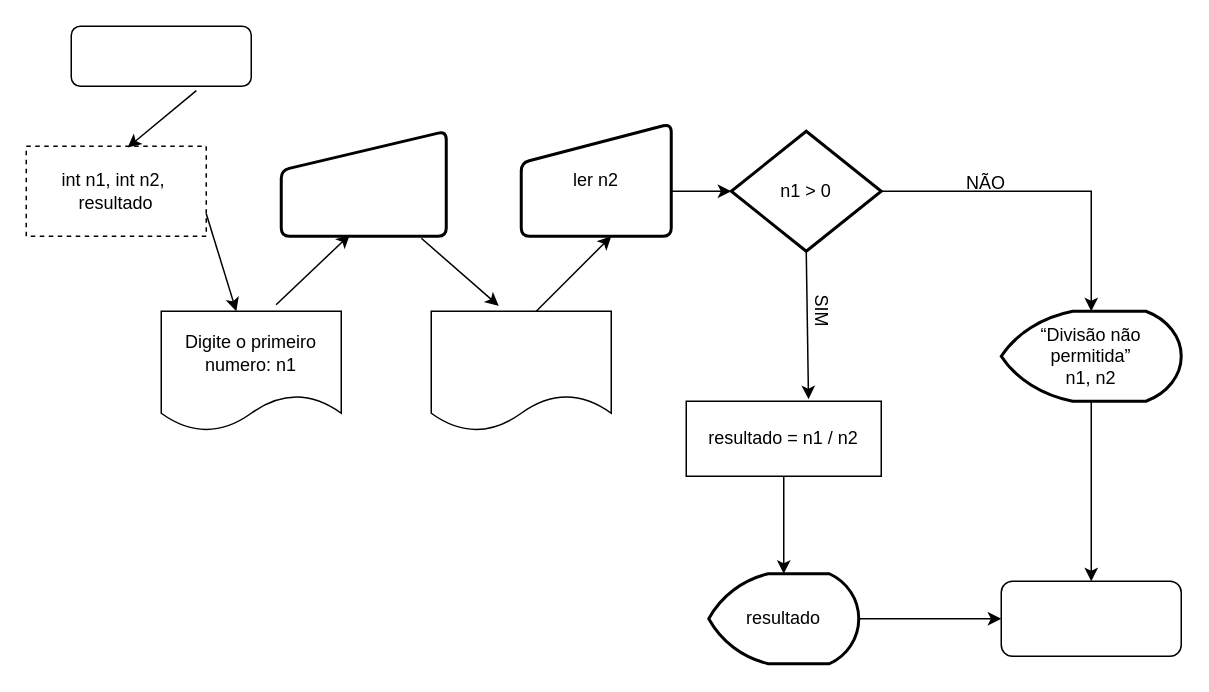
The diagram is 1209 pixels wide and 692 high, and some of its shapes have lost their labels. Here are the shapes that lost their labels. From the top down, the centre of each, then its label:
the point at 160,55: INICIO
the point at 363,183: ler n1
the point at 520,370: Digite o segundo numero: n2
the point at 1090,618: FIM
